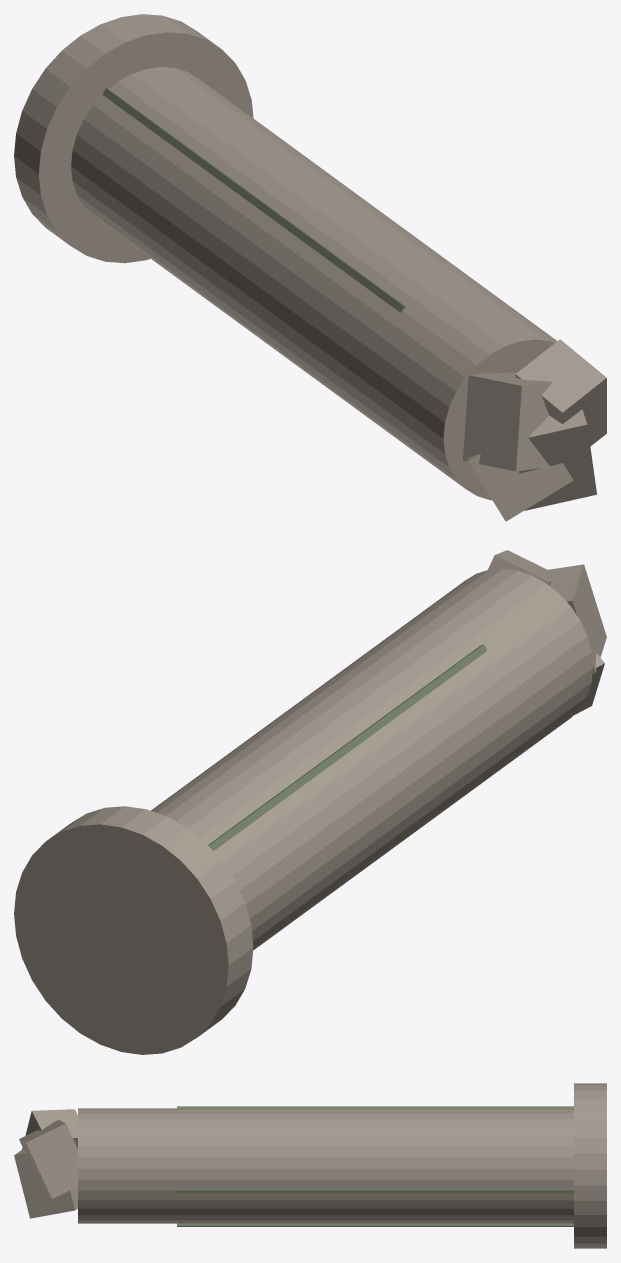
Rendered from ruins_pillar.glb.
The picture shows the model from 3 angles, top to bottom: view 1: azimuth 30°, elevation 25°; view 2: azimuth 150°, elevation 25°; view 3: azimuth 270°, elevation 25°; orthographic projection. The views are drawn at different scales.
Parts seen in each view (by area): view 1: part_1, part_0, part_3, part_4, part_2, part_5, part_8; view 2: part_1, part_0, part_8, part_3, part_4; view 3: part_1, part_0, part_4, part_7, part_2, part_9, part_8, part_3.
Part boxes in pixels (x1,y1,x2,y2): part_1: (71,67,556,500); part_0: (14,14,253,263); part_3: (463,372,551,471); part_4: (515,339,606,446); part_2: (519,409,596,510); part_5: (467,453,573,521); part_8: (102,88,406,312); part_1: (151,568,592,950); part_0: (14,806,253,1054); part_8: (208,644,487,850); part_3: (539,564,606,673); part_4: (488,550,551,584); part_1: (78,1108,573,1223); part_0: (574,1083,606,1248); part_4: (19,1120,77,1198); part_7: (177,1189,573,1193); part_2: (14,1149,77,1218); part_9: (177,1223,573,1226); part_8: (177,1106,573,1108); part_3: (22,1109,77,1149).
Size of the model in its own units: 1 by 1 by 3.59.
